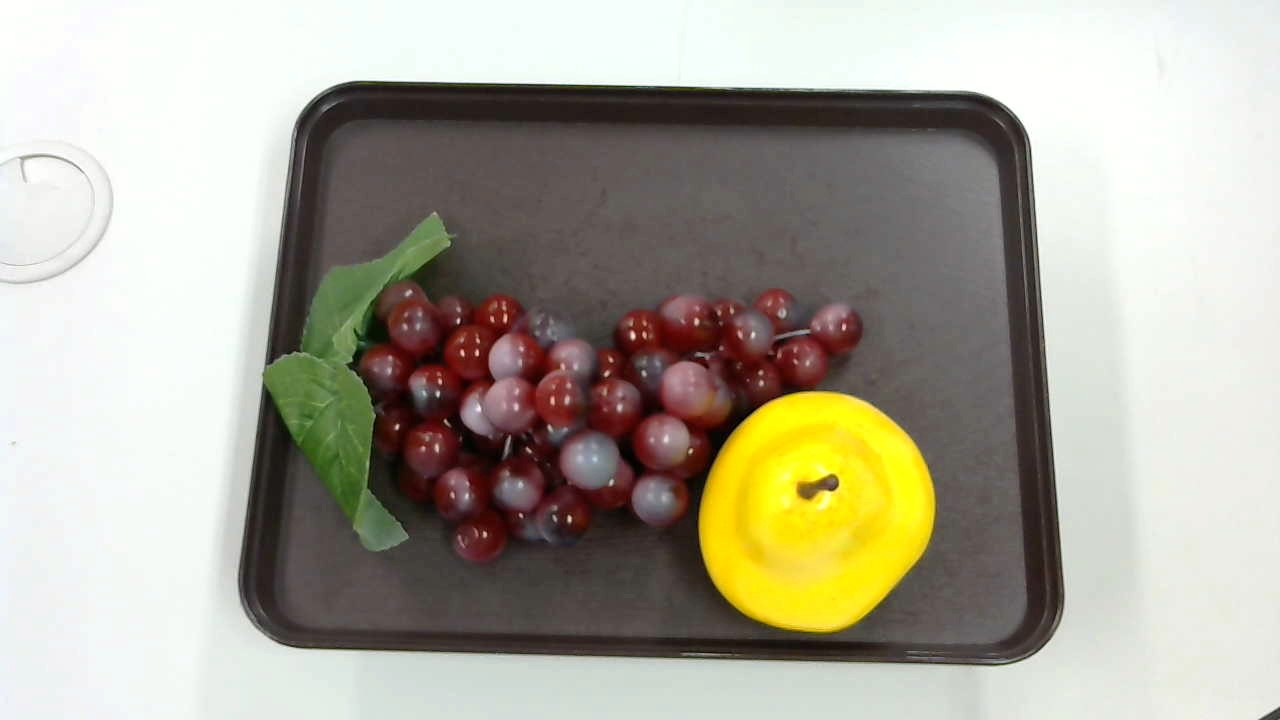grape: (269, 213, 868, 558)
yellow pear: (695, 391, 937, 629)
